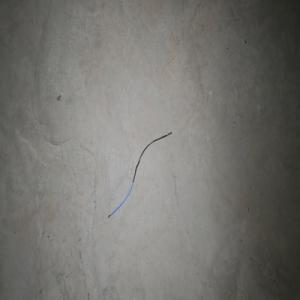Wire: (107, 131, 172, 218)
